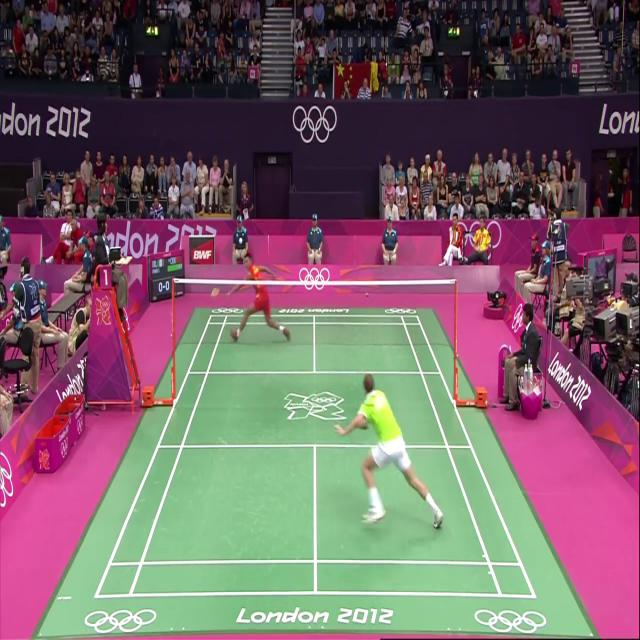Net: (174, 278, 458, 379)
Player1: (338, 340, 451, 540)
Player2: (228, 229, 294, 360)
